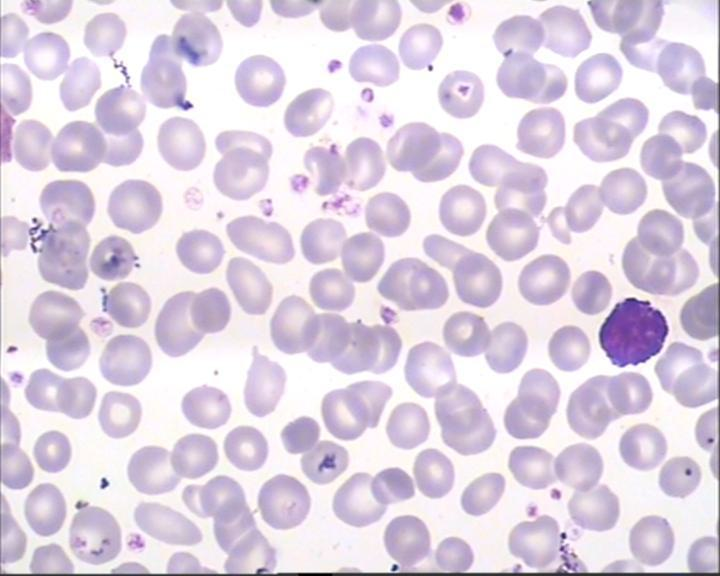baso: (595, 293, 671, 370)
